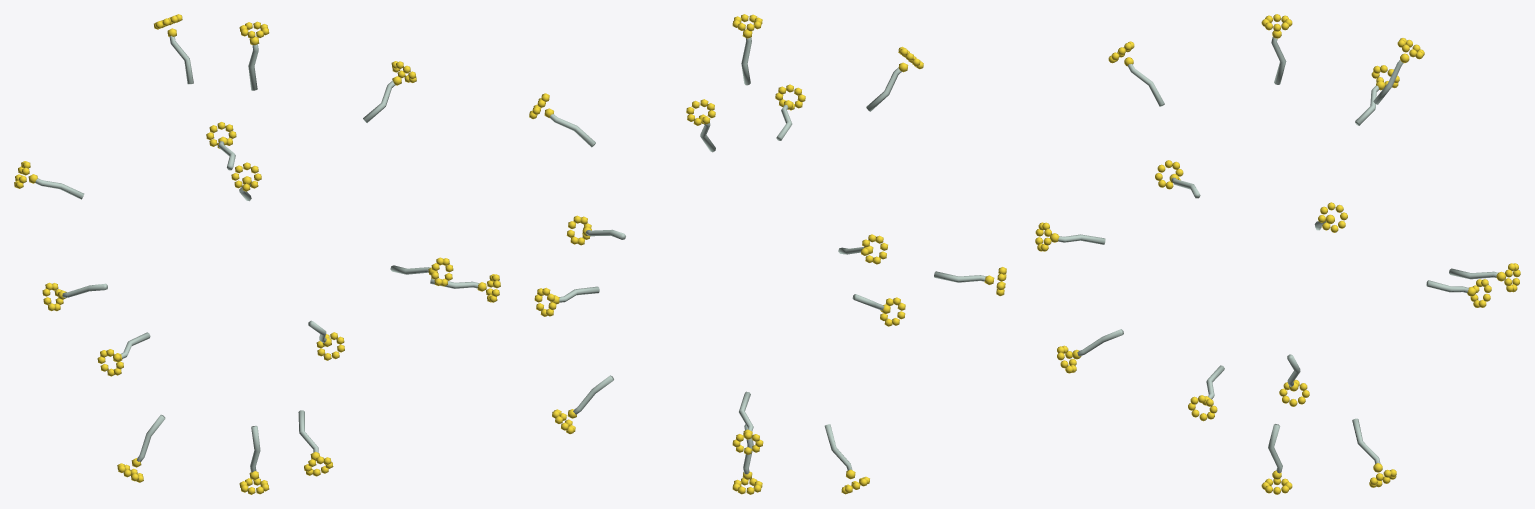
File: folate_ligands.glb
3 renders of one model, left to right at view 1: azimuth 30°, elevation 25°; view 2: azimuth 150°, elevation 25°; view 3: azimuth 270°, elevation 25°, orthographic.
Parts seen in each view (by area): view 1: Folate_Heads_Cutaway, Folate_Stalks_Cutaway, Folate_Heads_Full, Folate_Stalks_Full; view 2: Folate_Heads_Cutaway, Folate_Stalks_Cutaway, Folate_Heads_Full, Folate_Stalks_Full; view 3: Folate_Heads_Cutaway, Folate_Stalks_Cutaway, Folate_Heads_Full, Folate_Stalks_Full.
Part boxes in pixels (x1,y1,x2,y2): Folate_Heads_Cutaway: [14, 14, 416, 494]; Folate_Stalks_Cutaway: [35, 36, 395, 472]; Folate_Heads_Full: [239, 21, 500, 302]; Folate_Stalks_Full: [248, 44, 478, 288]; Folate_Heads_Cutaway: [529, 46, 1006, 494]; Folate_Stalks_Cutaway: [549, 67, 985, 474]; Folate_Heads_Full: [566, 14, 805, 245]; Folate_Stalks_Full: [585, 37, 792, 239]; Folate_Heads_Cutaway: [1057, 38, 1520, 494]; Folate_Stalks_Cutaway: [1077, 60, 1497, 473]; Folate_Heads_Full: [1035, 14, 1292, 421]; Folate_Stalks_Full: [1058, 36, 1286, 399].
Bounding box in the file's own units: 3.19 × 3.42 × 3.19.
